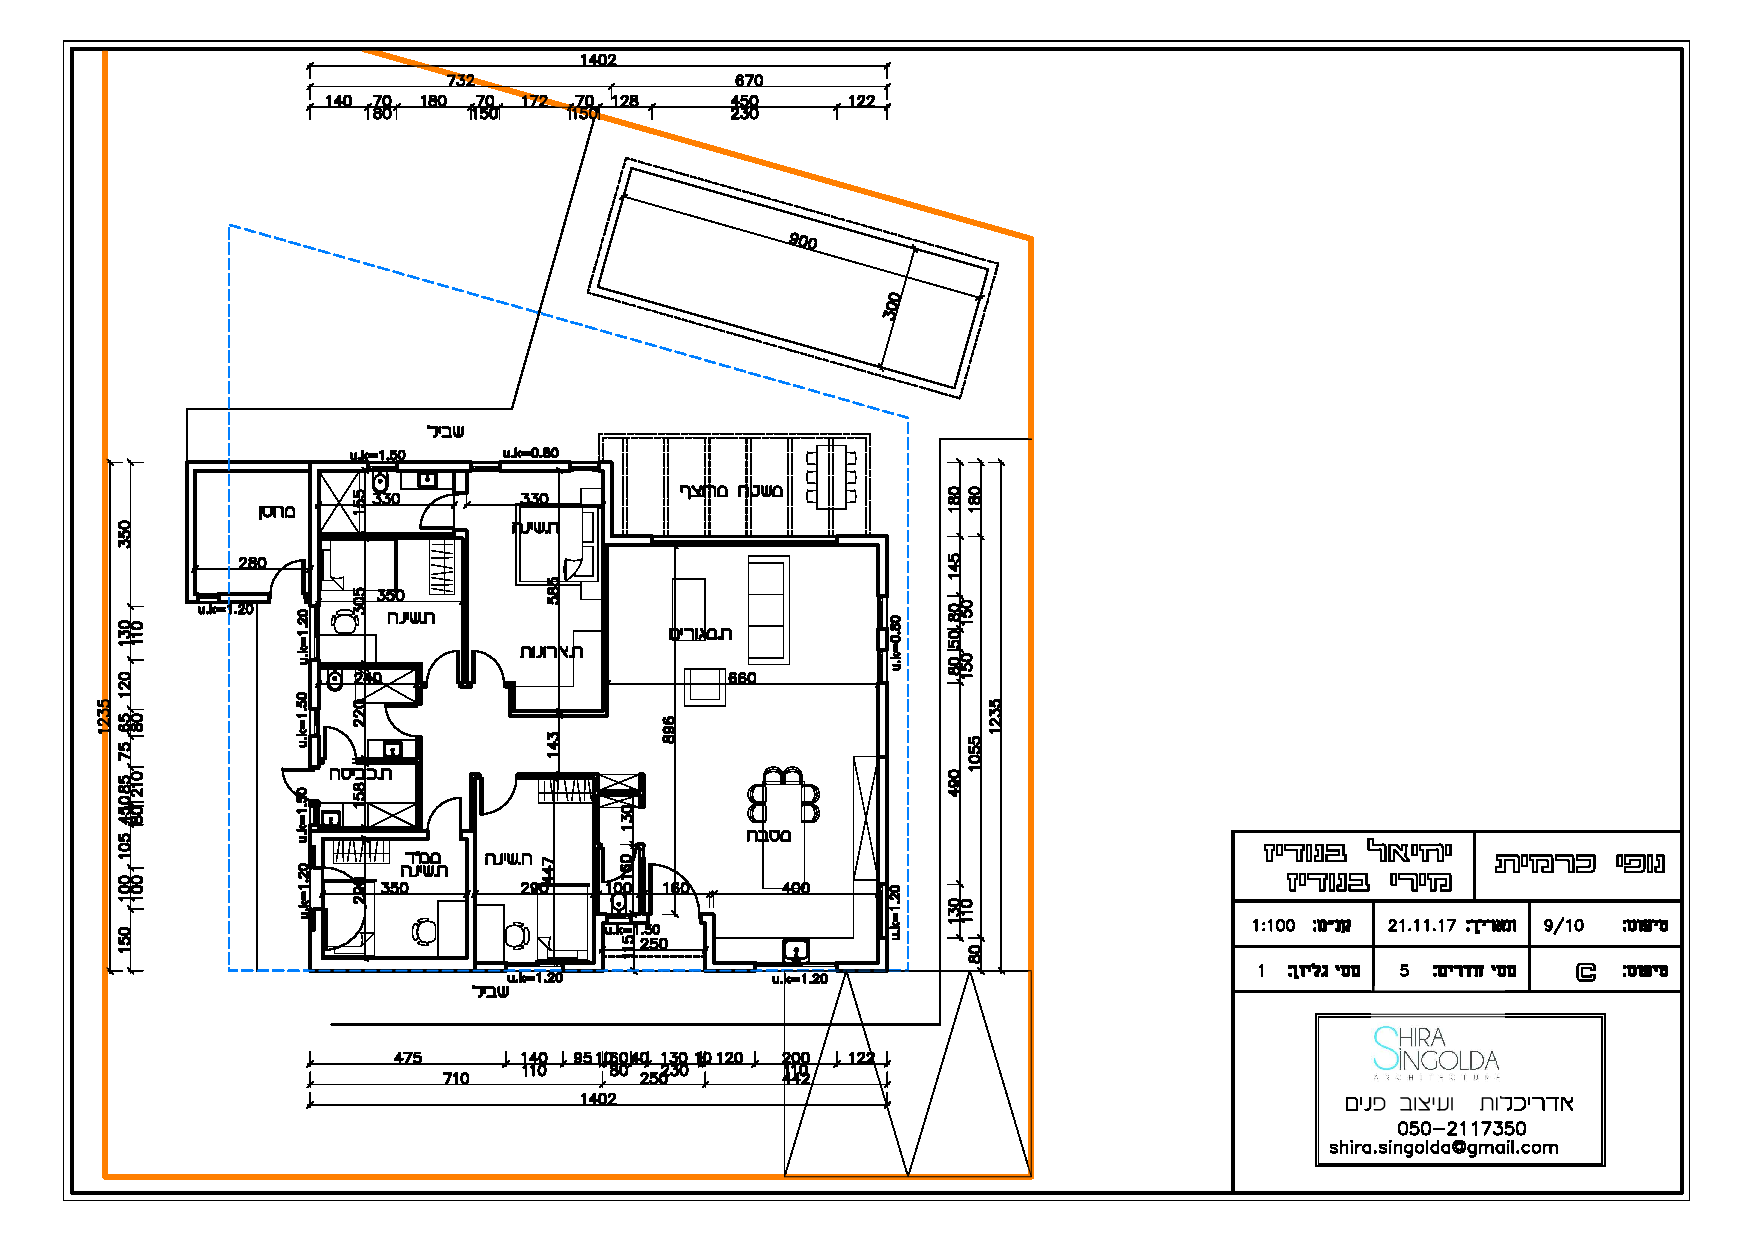door: (421, 790, 467, 827), (476, 785, 521, 820), (321, 722, 361, 756), (425, 641, 462, 678), (470, 641, 506, 678), (378, 701, 411, 738)
wall: (321, 530, 452, 541), (601, 545, 609, 711), (655, 541, 841, 548)
